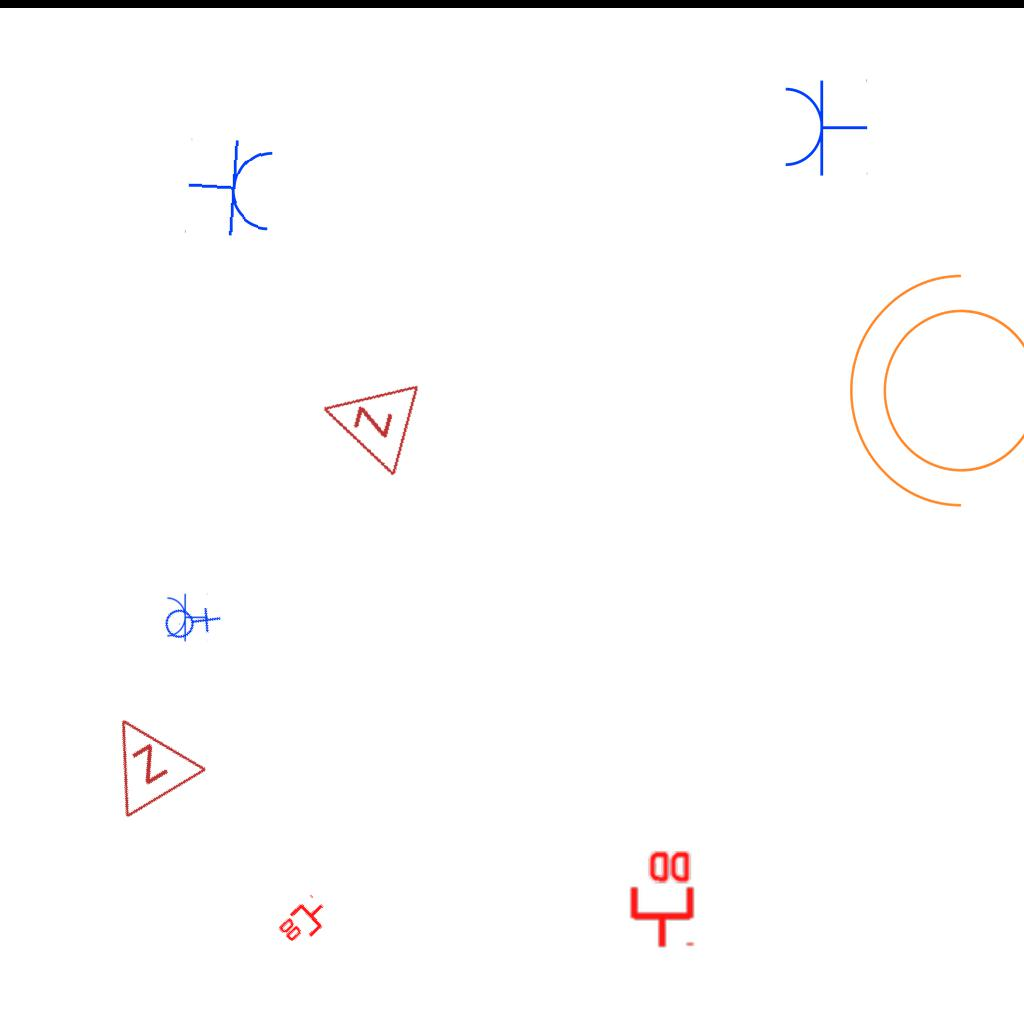Datenanschluss_zweifach: (626, 847, 695, 950), (274, 892, 336, 953)
Elektroanschluss_allgemein_230V_Geraeteanschlussdose_230V: (155, 586, 224, 655)
Scheinwerfer_fuer_Alarmbeleuchtung: (839, 265, 1024, 529)
Schukosteckdose_einfach: (184, 135, 278, 242), (781, 77, 868, 177), (165, 592, 208, 642)
Zimmersignalleuchte: (76, 689, 212, 827), (304, 360, 426, 482)
